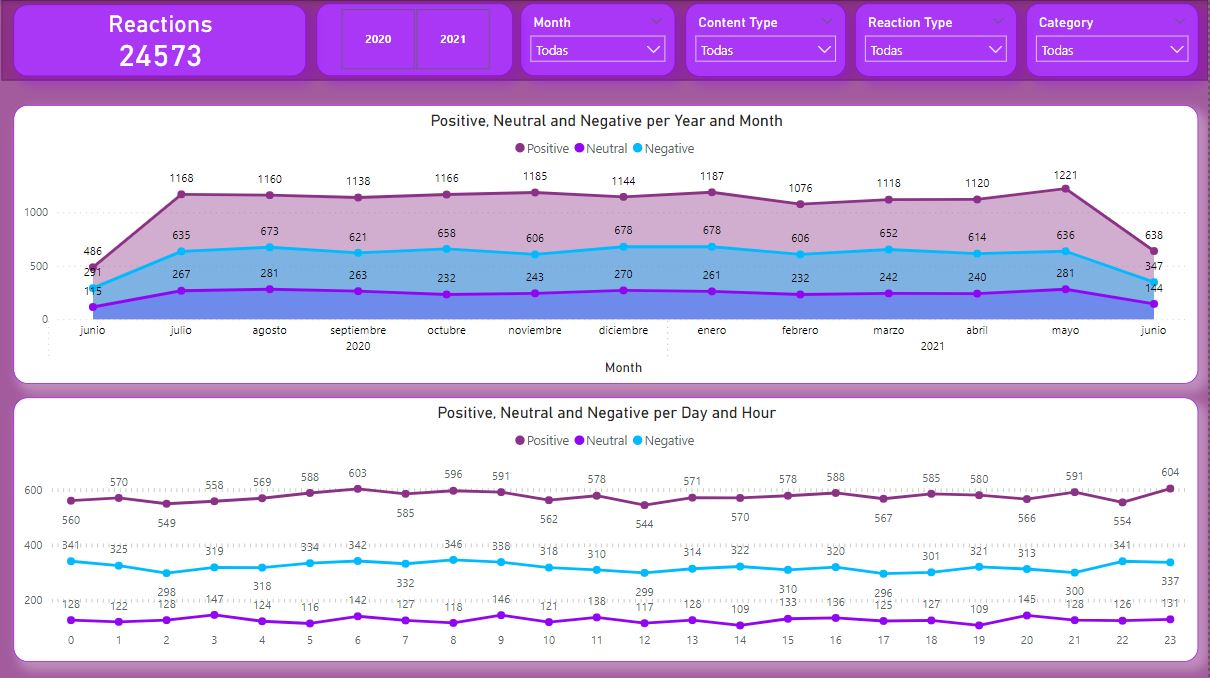

Layout of this report page (visuals, bound fields, positions):
{"tool":"powerbi","page":{"name":"Time Analysis","canvas":[1280,720],"ordinal":1},"visuals":[{"type":"shape","box":[1.1,0,1278.9,85.4],"z":0},{"type":"lineChart","title":"Positive, Neutral and Negative per Day and Hour","fields":{"Y":["Cleaned_Table.Positive","Cleaned_Table.Neutral","Cleaned_Table.Negative"],"Category":["TablaCalendario.Día","TablaCalendario.Hora"]},"box":[14.3,421.2,1255.6,279.7],"z":1000},{"type":"slicer","fields":{"Values":["TablaCalendario.Datetime.Variación.Jerarquía de fechas.Mes"]},"box":[551.5,3.2,163.7,77],"z":2000},{"type":"slicer","fields":{"Values":["TablaCalendario.Datetime.Variación.Jerarquía de fechas.Año"]},"box":[335.4,3.2,208.2,77],"z":3000},{"type":"areaChart","title":"Positive, Neutral and Negative per Year and Month","fields":{"Y":["Cleaned_Table.Positive","Cleaned_Table.Neutral","Cleaned_Table.Negative"],"Category":["TablaCalendario.Date.Variación.Jerarquía de fechas.Año","TablaCalendario.Date.Variación.Jerarquía de fechas.Mes"]},"box":[14.3,111.3,1255.6,295.6],"z":4000},{"type":"card","title":"Reactions","fields":{"Values":["Cleaned_Table.Conteo Reacciones"]},"box":[14.3,4.8,309.9,76.3],"z":5000},{"type":"slicer","fields":{"Values":["Cleaned_Table.Category"]},"box":[1087.2,3.2,182.8,77.9],"z":6000},{"type":"slicer","fields":{"Values":["Cleaned_Table.Reaction Type"]},"box":[906,3.2,171.7,77.9],"z":7000},{"type":"slicer","fields":{"Values":["Cleaned_Table.Content Type"]},"box":[726.4,3.2,170.1,77.9],"z":8000}]}

Visuals, with their boxes in screenshot pixels (x1, y1, x2, y2), scaled from the page's 1280x720 canvas onto the 1210x678 screenshot:
shape: <bbox>1, 0, 1209, 80</bbox>
"Positive, Neutral and Negative per Day and Hour" lineChart: <bbox>14, 397, 1200, 660</bbox>
slicer - TablaCalendario.Datetime.Variación.Jerarquía de fechas.Mes: <bbox>521, 3, 676, 76</bbox>
slicer - TablaCalendario.Datetime.Variación.Jerarquía de fechas.Año: <bbox>317, 3, 514, 76</bbox>
"Positive, Neutral and Negative per Year and Month" areaChart: <bbox>14, 105, 1200, 383</bbox>
"Reactions" card: <bbox>14, 5, 306, 76</bbox>
slicer - Cleaned_Table.Category: <bbox>1028, 3, 1201, 76</bbox>
slicer - Cleaned_Table.Reaction Type: <bbox>856, 3, 1019, 76</bbox>
slicer - Cleaned_Table.Content Type: <bbox>687, 3, 847, 76</bbox>
